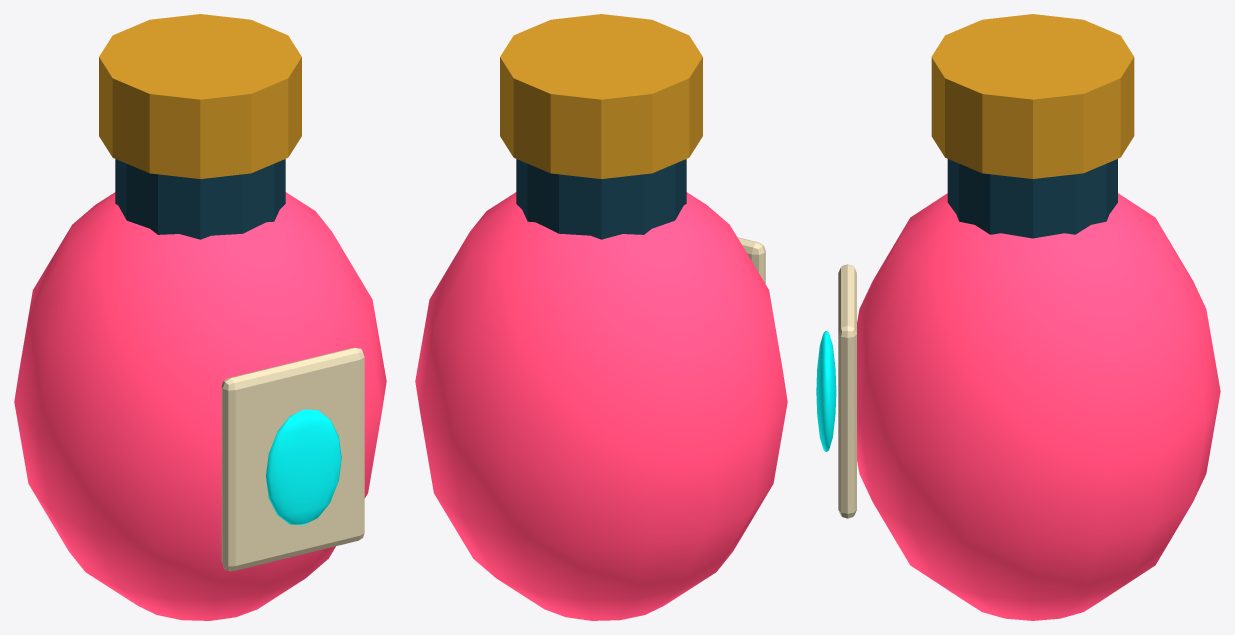
The model's file is essence-vial.glb.
3 views of the same model, side by side, from view 1: azimuth 30°, elevation 25°; view 2: azimuth 150°, elevation 25°; view 3: azimuth 270°, elevation 25° (orthographic).
Parts seen in each view (by area): view 1: essence-vial; view 2: essence-vial; view 3: essence-vial.
Boxes of the visible parts, x1,y1,x2,y2 form: essence-vial: (14, 14, 386, 620); essence-vial: (415, 14, 787, 620); essence-vial: (816, 14, 1220, 620).
Size of the model in its own units: 0.3 by 0.485 by 0.323.
